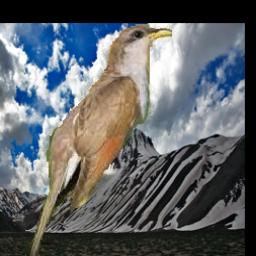Cuckoo: (25, 24, 176, 256)
